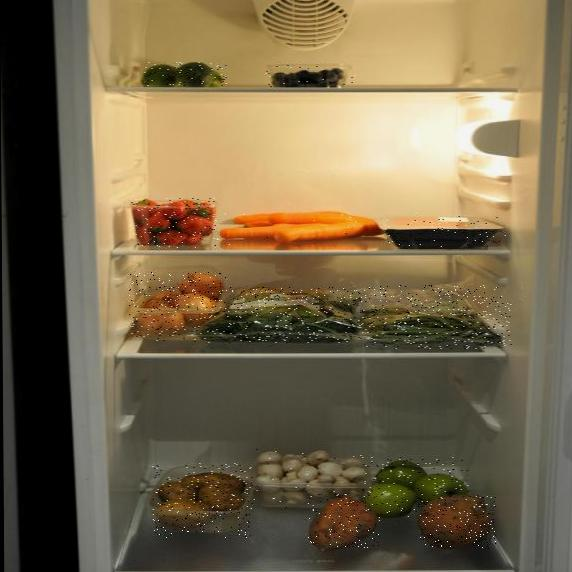apple: (363, 457, 469, 517)
beef: (382, 216, 506, 248)
blueberries: (265, 63, 356, 88)
carrot: (219, 209, 387, 245)
green_beans: (362, 285, 512, 349)
lime: (141, 62, 227, 86)
mushrooms: (253, 449, 363, 508)
onion: (129, 272, 226, 341)
potato: (152, 463, 253, 538)
spinach: (193, 288, 367, 344)
strawberries: (129, 198, 218, 248)
sweet_potato: (418, 494, 497, 549), (308, 493, 381, 550)
